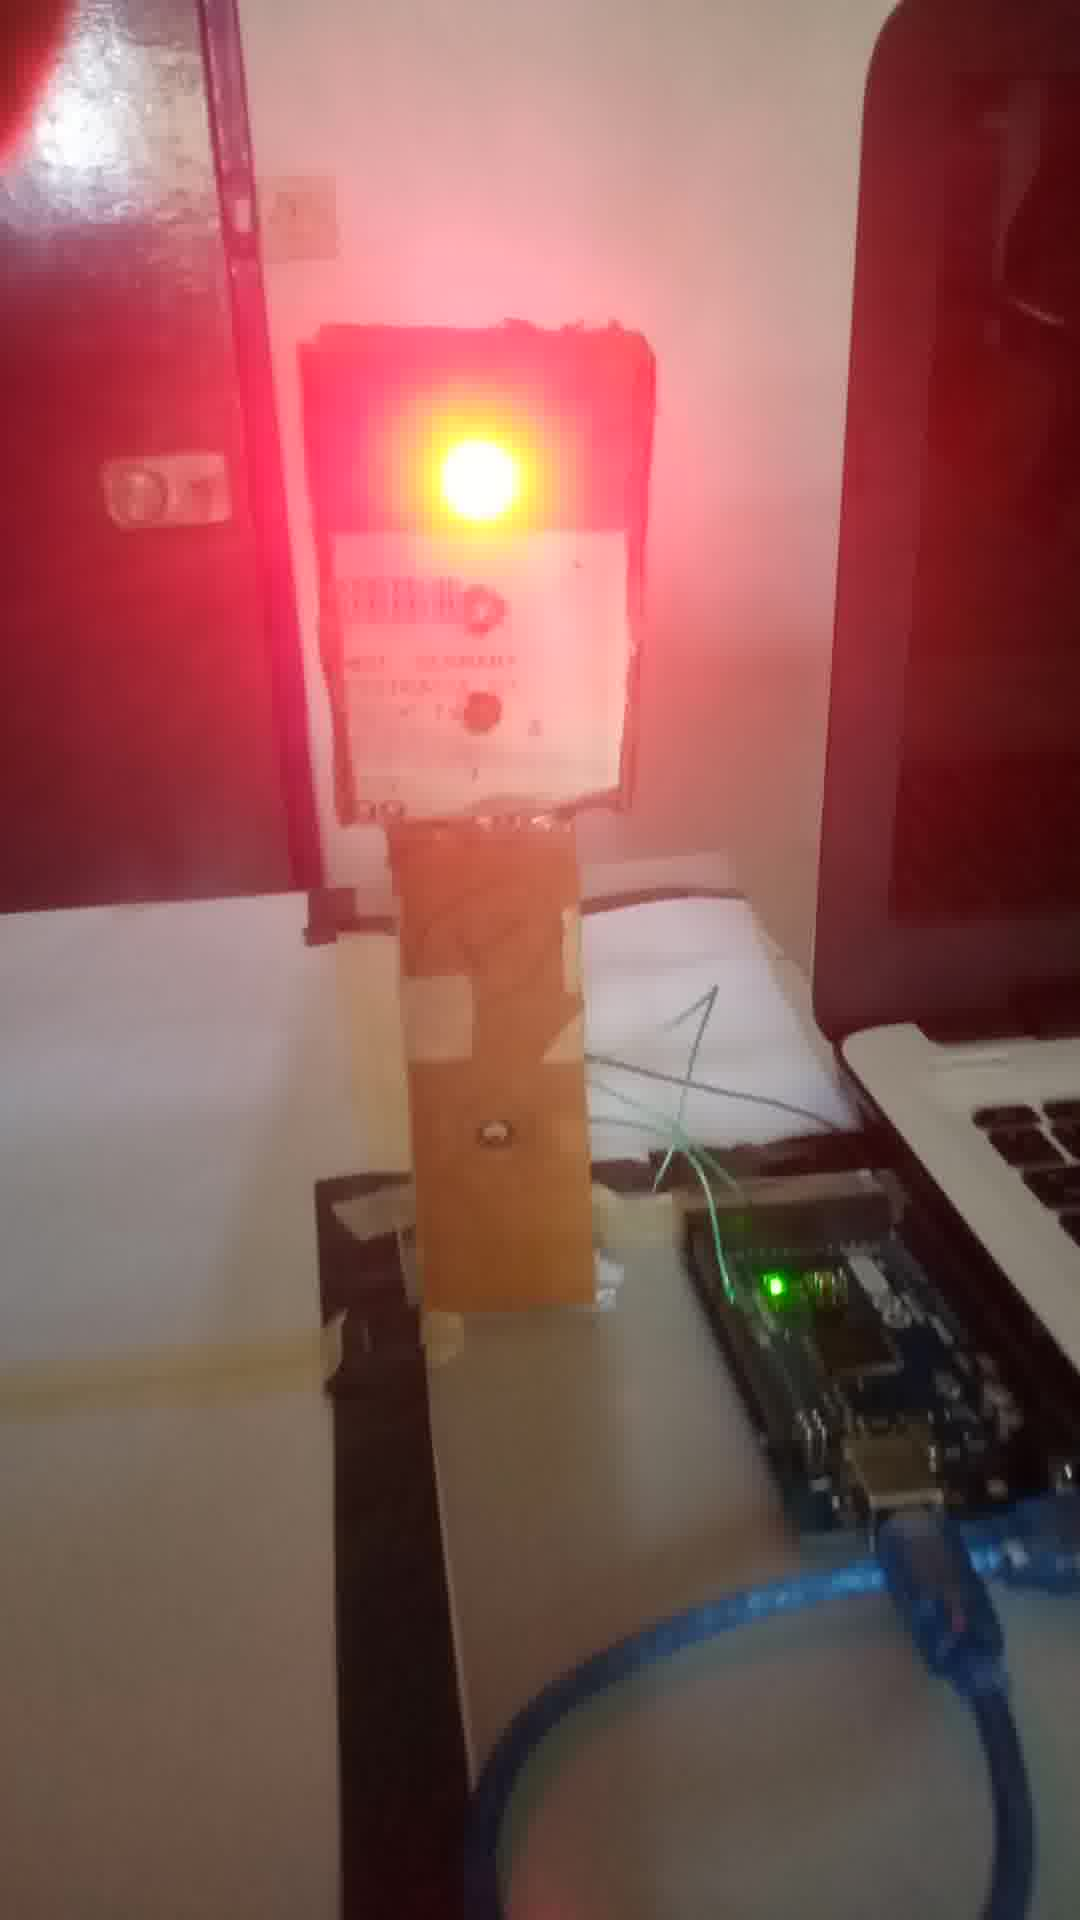red: (313, 338, 647, 820)
